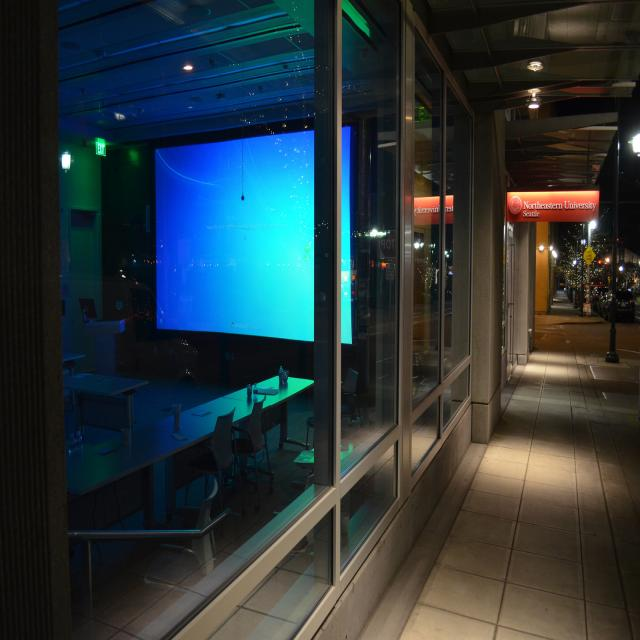Table: (14, 358, 323, 541), (59, 338, 153, 445)
chair: (205, 399, 243, 512), (249, 389, 273, 466)
